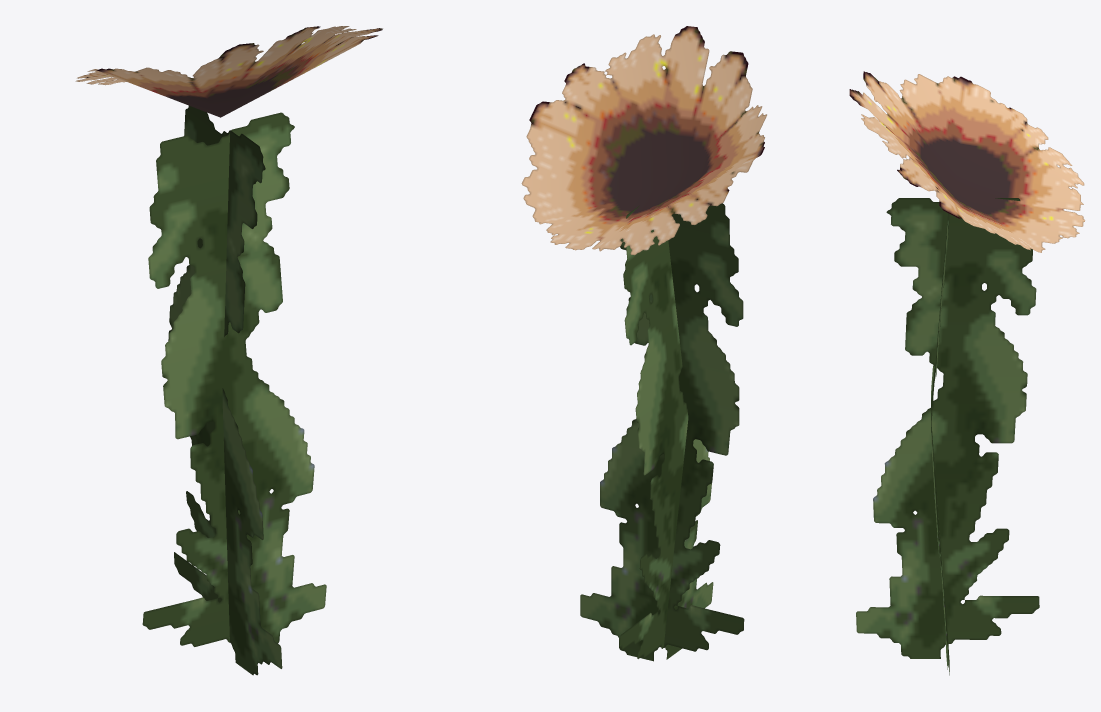
Rendered from plant_sunflower.fbx.
3 views of the same model, side by side, from view 1: azimuth 30°, elevation 25°; view 2: azimuth 150°, elevation 25°; view 3: azimuth 270°, elevation 25° (orthographic). The views are drawn at different scales.
Parts seen in each view (by area): view 1: plant_sunflower; view 2: plant_sunflower; view 3: plant_sunflower.
Boxes of the visible parts, box(x1,y1,x2,y2) form: plant_sunflower: box(75, 26, 382, 675); plant_sunflower: box(521, 26, 766, 661); plant_sunflower: box(849, 71, 1085, 675).
Size of the model in its own units: 44.37 by 101 by 36.63.
Materials: 1 (1 with a texture image).
